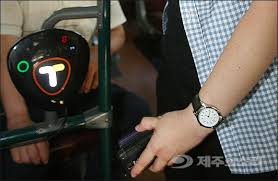terminal: (6, 27, 94, 115)
